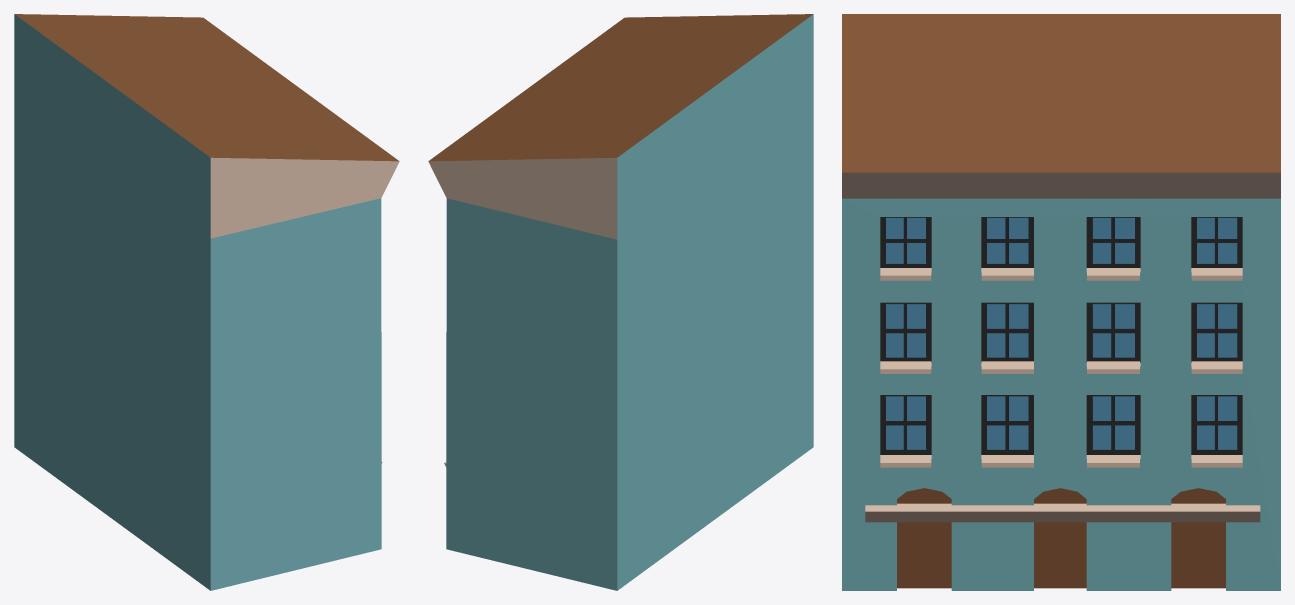
File: BigBlue.obj
3 views of the same model, side by side, from view 1: azimuth 30°, elevation 25°; view 2: azimuth 150°, elevation 25°; view 3: azimuth 270°, elevation 25° (orthographic). The views are drawn at different scales.
Parts seen in each view (by area): view 1: DuzyZwyklyBlekitny; view 2: DuzyZwyklyBlekitny; view 3: DuzyZwyklyBlekitny.
Boxes of the visible parts, box(x1,y1,x2,y2) form: DuzyZwyklyBlekitny: box(14, 14, 399, 590); DuzyZwyklyBlekitny: box(428, 14, 813, 590); DuzyZwyklyBlekitny: box(842, 14, 1280, 590).
Bounding box in the file's own units: 6.09 × 13.33 × 10.96.
